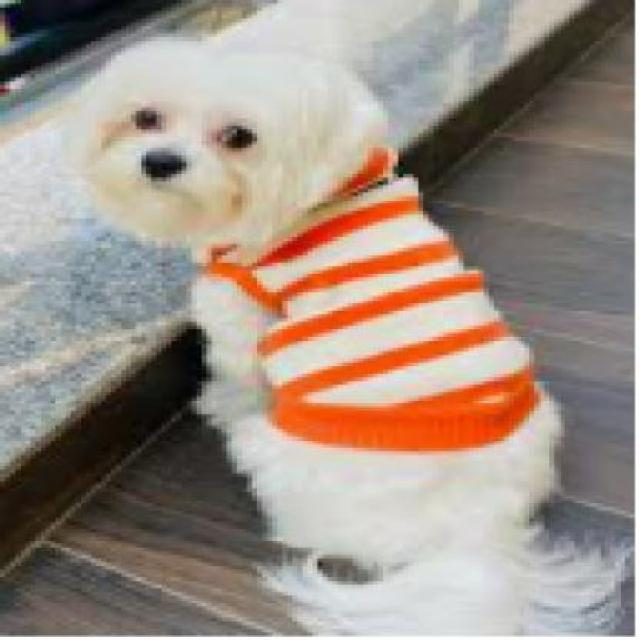Dog: (53, 26, 624, 632)
